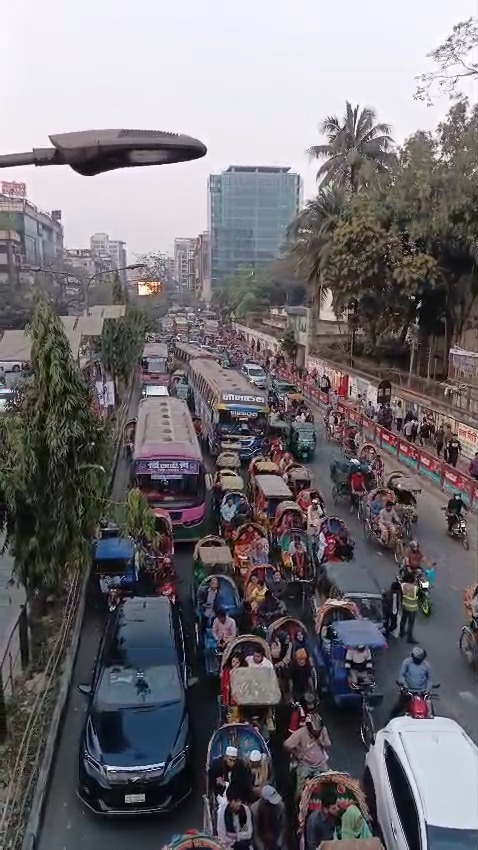Bikes: (389, 640, 449, 714), (403, 535, 447, 598), (291, 418, 338, 466), (438, 492, 476, 542)
Bus: (131, 394, 211, 526), (178, 339, 278, 443), (144, 335, 172, 385)
auto-ricksaw: (216, 430, 398, 850), (100, 530, 200, 579)
cng: (327, 550, 397, 626)
private car: (98, 594, 198, 828), (372, 717, 478, 844)
